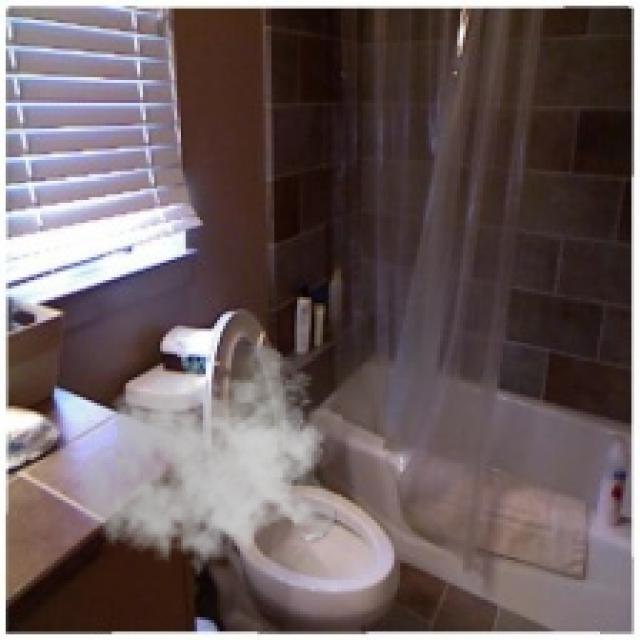smoke: (77, 346, 343, 586)
